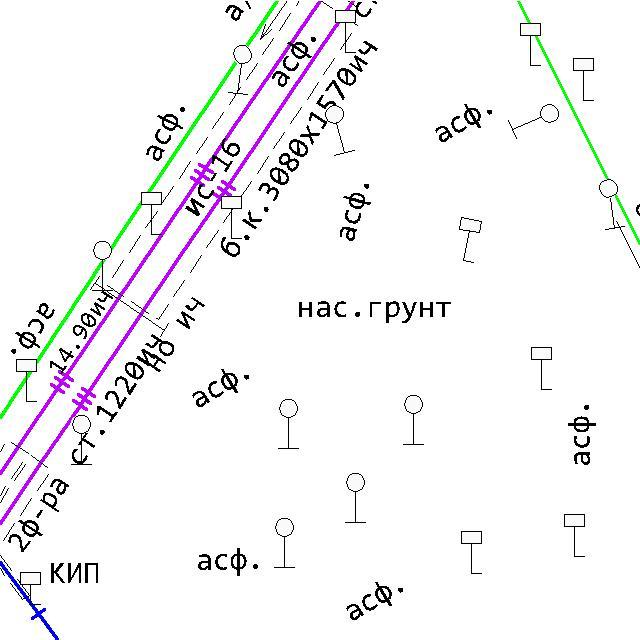asphalt: (9, 301, 56, 356), (434, 101, 494, 144), (191, 366, 251, 409), (144, 104, 187, 163), (272, 35, 318, 88), (346, 580, 404, 622), (337, 180, 373, 244), (566, 403, 598, 468), (196, 546, 260, 578)
sing: (506, 100, 562, 140), (324, 104, 356, 158), (598, 177, 628, 232), (225, 42, 253, 97), (275, 396, 301, 452), (455, 215, 484, 265), (342, 470, 368, 525), (401, 393, 426, 447), (561, 511, 588, 559), (273, 516, 297, 570), (332, 8, 358, 55), (70, 414, 93, 466), (459, 529, 484, 576), (92, 239, 114, 292), (572, 56, 596, 104), (530, 344, 554, 392), (518, 22, 543, 68), (14, 357, 38, 404), (140, 190, 163, 237), (220, 194, 243, 240), (19, 570, 43, 606)
